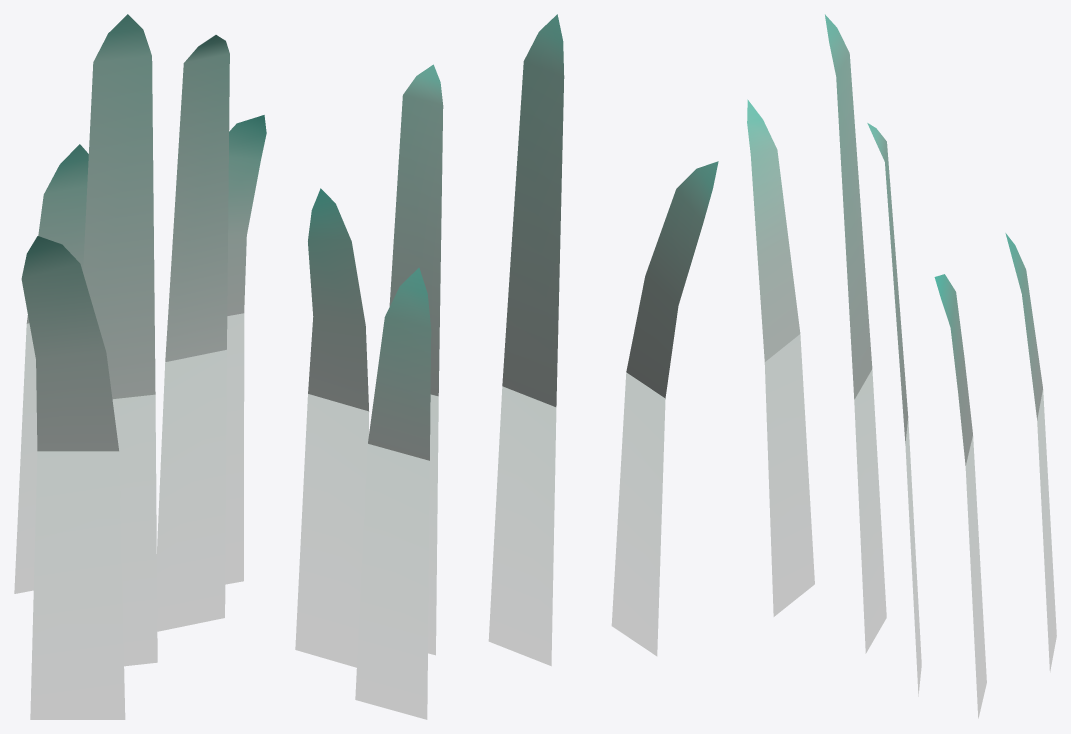
File: prop-forest-water_cattail_02.glb
3 views of the same model, side by side, from view 1: azimuth 30°, elevation 25°; view 2: azimuth 150°, elevation 25°; view 3: azimuth 270°, elevation 25° (orthographic). The views are drawn at different scales.
Parts seen in each view (by area): view 1: prop-forest-water_cattail_02; view 2: prop-forest-water_cattail_02; view 3: prop-forest-water_cattail_02.
Boxes of the visible parts, x1,y1,x2,y2 form: prop-forest-water_cattail_02: (14, 14, 266, 719); prop-forest-water_cattail_02: (295, 14, 718, 719); prop-forest-water_cattail_02: (747, 14, 1056, 718).
Bounding box in the file's own units: 3.21 × 6.15 × 2.8.
